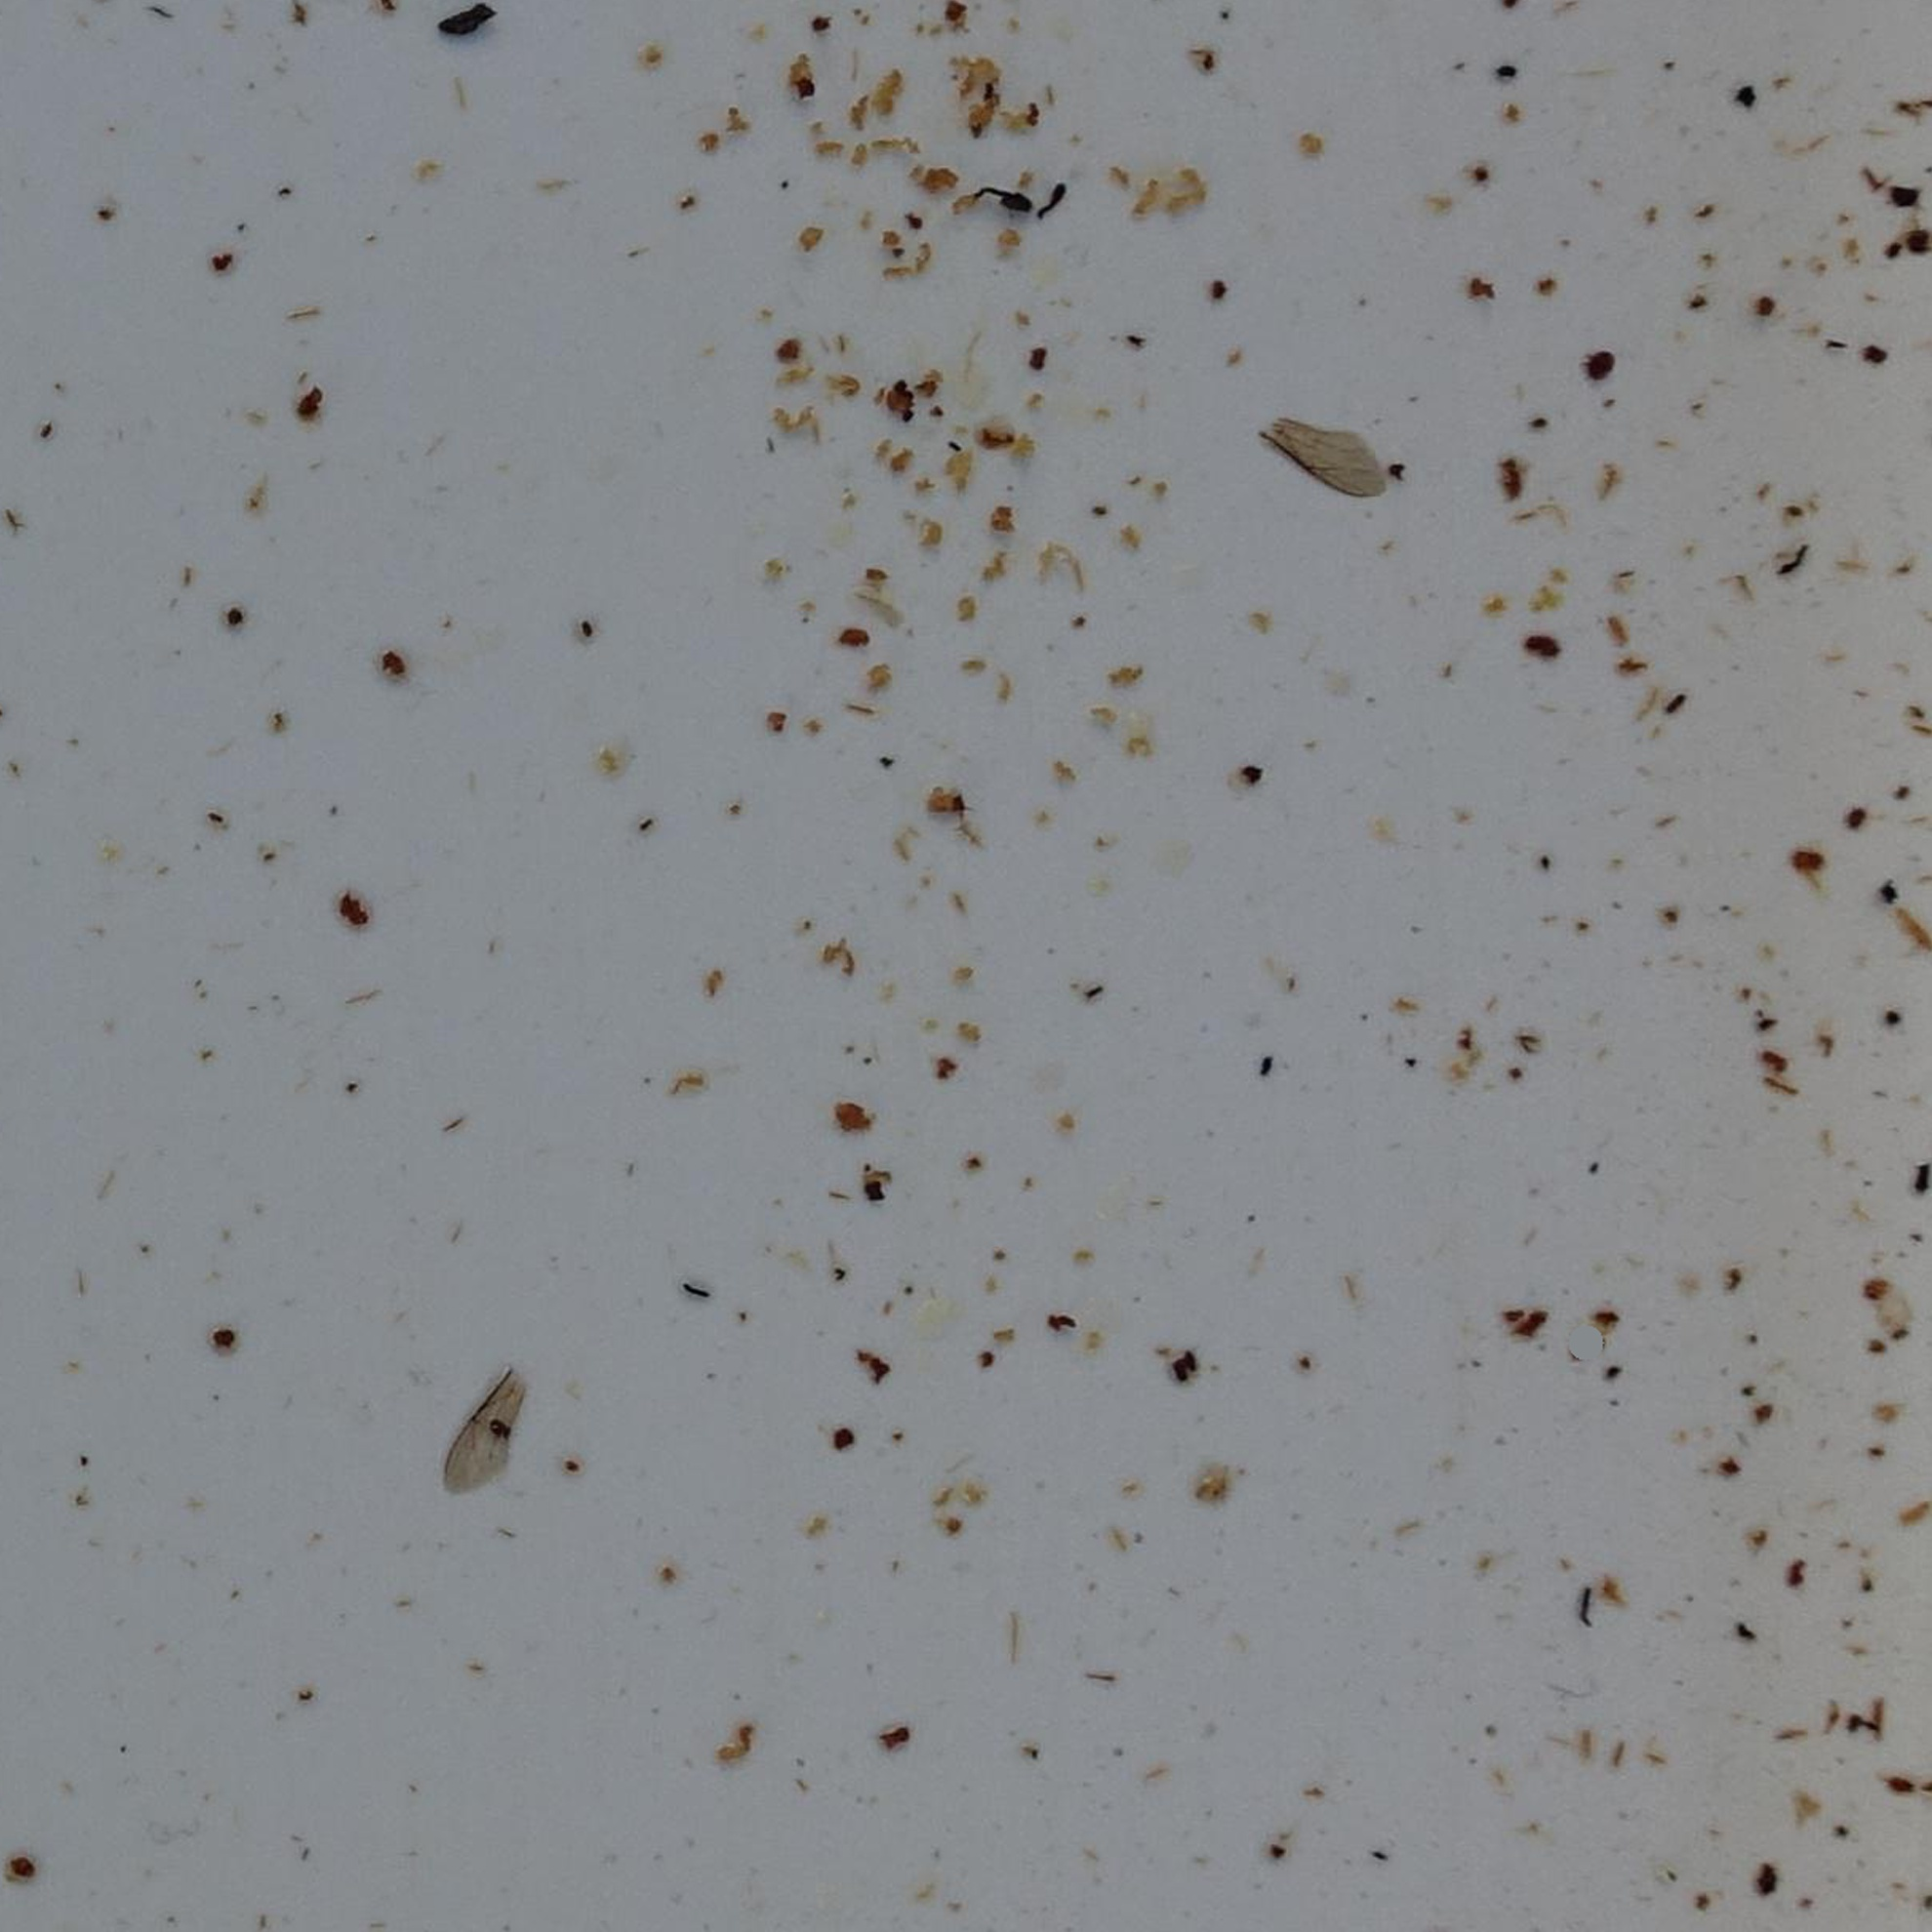Varroa: (1589, 352, 1610, 373)
